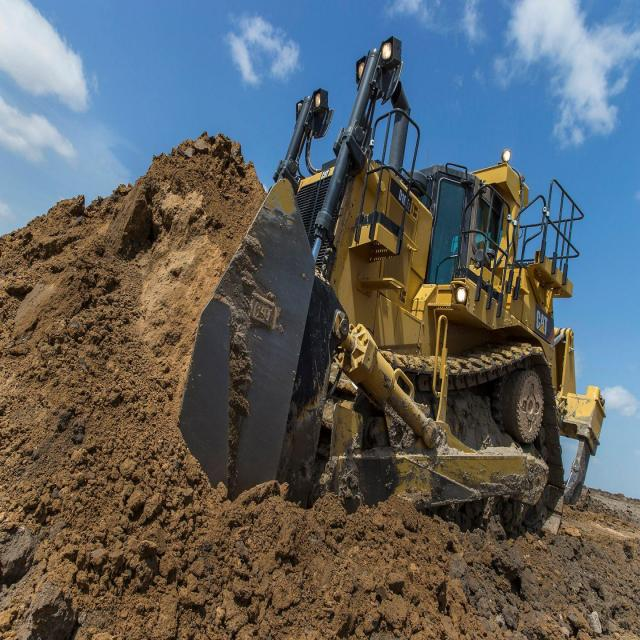Bulldozer: (147, 37, 608, 558)
